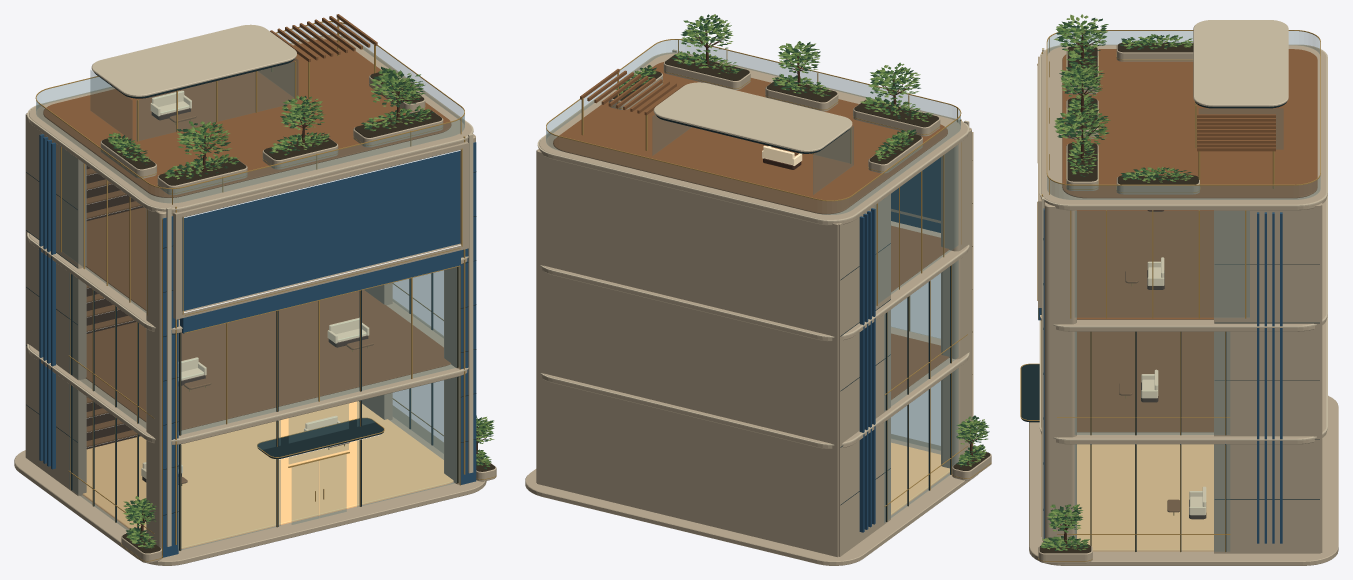
Rendered from vc-retail-gallery-v1.glb.
3 renders of one model, left to right at view 1: azimuth 30°, elevation 25°; view 2: azimuth 150°, elevation 25°; view 3: azimuth 270°, elevation 25°, orthographic. The views are drawn at different scales.
Parts seen in each view (by area): view 1: VC_Glass, VC_Stone, VC_Wood, VC_Accent, VC_Interior, VC_Stone_Light, VC_Brass, VC_Graphite, VC_Soil, VC_Leaves_Light, VC_Leaves_Shadow, VC_Leaves_Olive (+3 smaller); view 2: VC_Stone, VC_Glass, VC_Wood, VC_Stone_Light, VC_Accent, VC_Brass, VC_Soil, VC_Leaves_Olive, VC_Leaves_Shadow, VC_Leaves_Light, VC_Interior, VC_Graphite (+1 smaller); view 3: VC_Stone, VC_Glass, VC_Wood, VC_Interior, VC_Stone_Light, VC_Brass, VC_Accent, VC_Graphite, VC_Leaves_Olive, VC_Leaves_Shadow, VC_Leaves_Light, VC_Soil (+2 smaller).
Boxes of the visible parts, x1,y1,x2,y2 form: VC_Glass: (36, 22, 464, 549); VC_Stone: (14, 35, 496, 565); VC_Wood: (43, 14, 451, 484); VC_Accent: (39, 134, 476, 557); VC_Interior: (82, 401, 453, 548); VC_Stone_Light: (27, 24, 473, 546); VC_Brass: (35, 17, 496, 561); VC_Graphite: (26, 58, 476, 550); VC_Soil: (101, 72, 495, 553); VC_Leaves_Light: (108, 68, 494, 546); VC_Leaves_Shadow: (109, 66, 493, 548); VC_Leaves_Olive: (108, 68, 494, 548); VC_Stone: (525, 52, 991, 565); VC_Glass: (546, 40, 960, 522); VC_Wood: (553, 62, 949, 399); VC_Stone_Light: (537, 49, 969, 445); VC_Accent: (859, 157, 940, 532); VC_Brass: (546, 39, 991, 521); VC_Soil: (612, 53, 990, 470); VC_Leaves_Olive: (615, 15, 988, 465); VC_Leaves_Shadow: (619, 14, 989, 466); VC_Leaves_Light: (619, 14, 987, 466); VC_Interior: (891, 442, 949, 515); VC_Graphite: (656, 115, 972, 521); VC_Stone: (1029, 44, 1338, 565); VC_Glass: (1047, 31, 1320, 551); VC_Wood: (1062, 49, 1317, 512); VC_Interior: (1077, 444, 1213, 551); VC_Stone_Light: (1039, 20, 1327, 540); VC_Brass: (1020, 30, 1320, 561); VC_Accent: (1038, 208, 1282, 543); VC_Graphite: (1021, 102, 1319, 551); VC_Leaves_Olive: (1040, 20, 1192, 550); VC_Leaves_Shadow: (1040, 18, 1191, 550); VC_Leaves_Light: (1041, 14, 1193, 550); VC_Soil: (1039, 42, 1198, 553).
Size of the model in its own units: 27.73 by 29.46 by 20.56.
